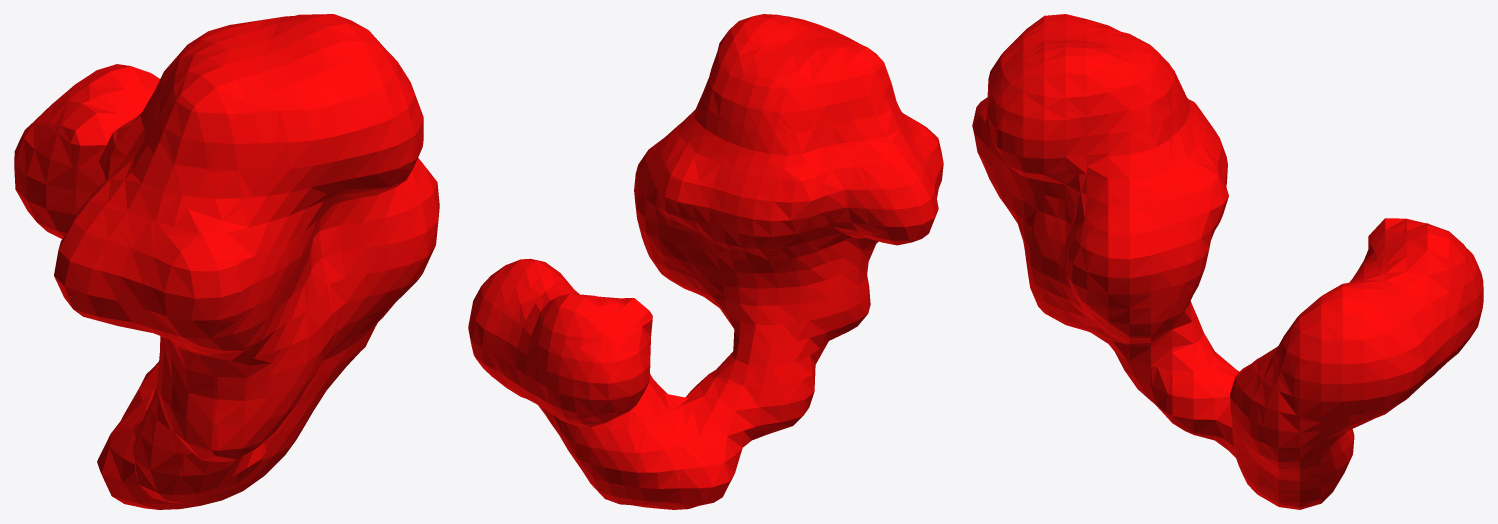
The model's file is yfeC_coarse.dae.
The picture shows the model from 3 angles, left to right: view 1: azimuth 30°, elevation 25°; view 2: azimuth 150°, elevation 25°; view 3: azimuth 270°, elevation 25°; orthographic projection. The views are drawn at different scales.
Parts seen in each view (by area): view 1: yfeC; view 2: yfeC; view 3: yfeC.
Boxes of the visible parts, left/top/right/bottom form: yfeC: left=14, top=14, right=439, bottom=509; yfeC: left=468, top=14, right=943, bottom=509; yfeC: left=972, top=14, right=1483, bottom=509.
Bounding box in the file's own units: 44.6 × 52.29 × 54.67.
